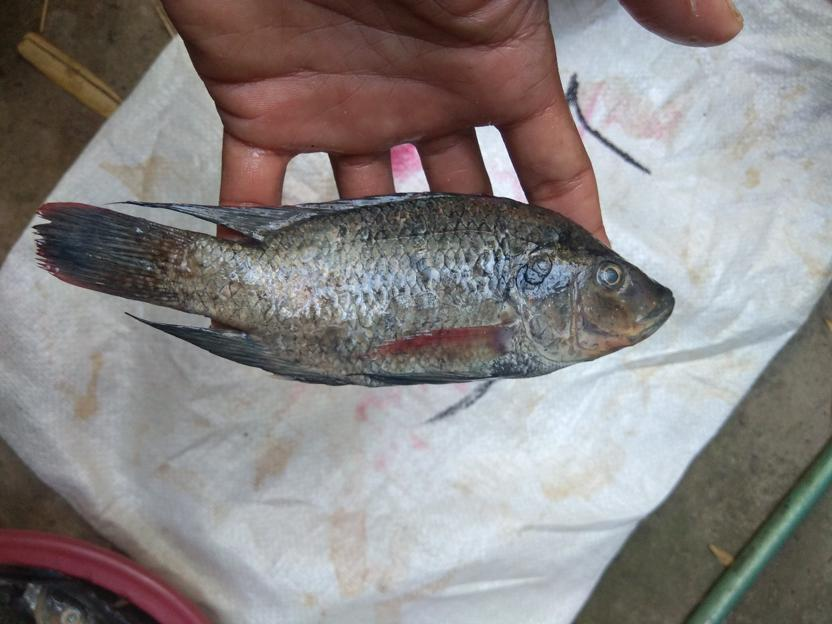Fish head: (522, 237, 675, 374)
Fish tail: (32, 201, 211, 319)
